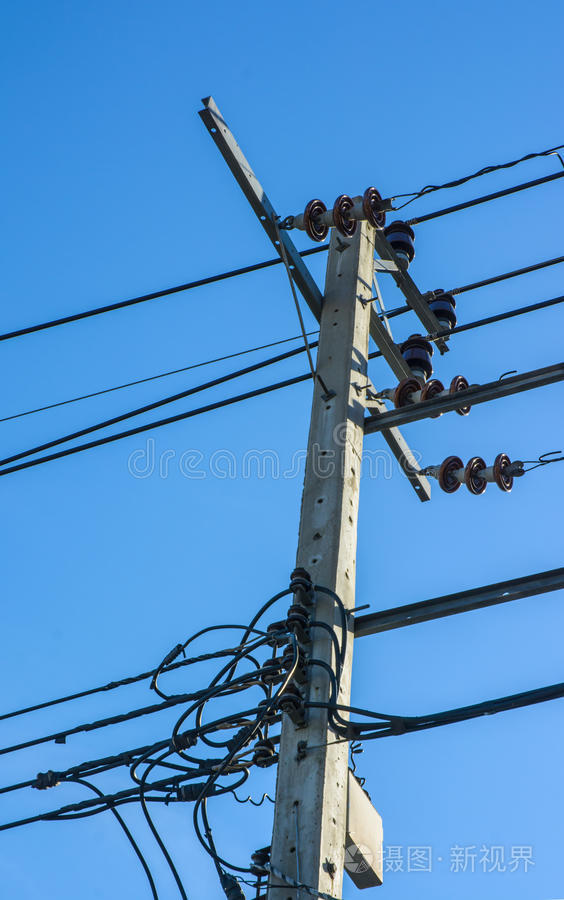insulator: (299, 186, 399, 244), (388, 371, 473, 422), (429, 452, 518, 498)
